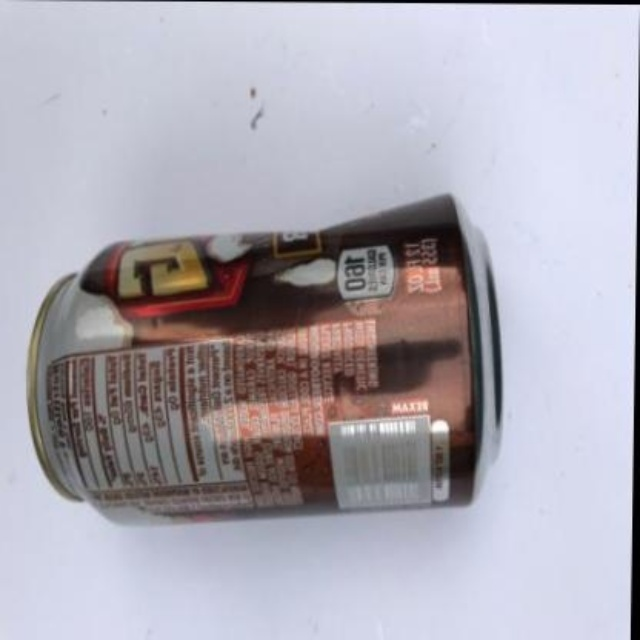trash: (28, 195, 500, 514)
